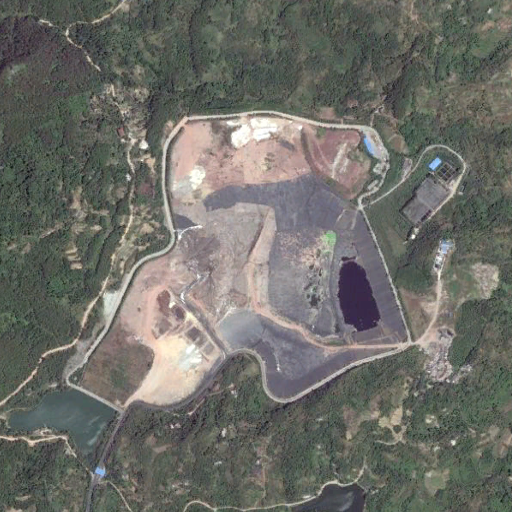lf: (170, 173, 409, 402)
